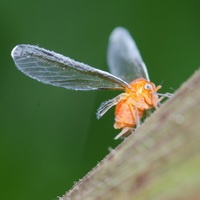insect: (11, 27, 170, 138)
